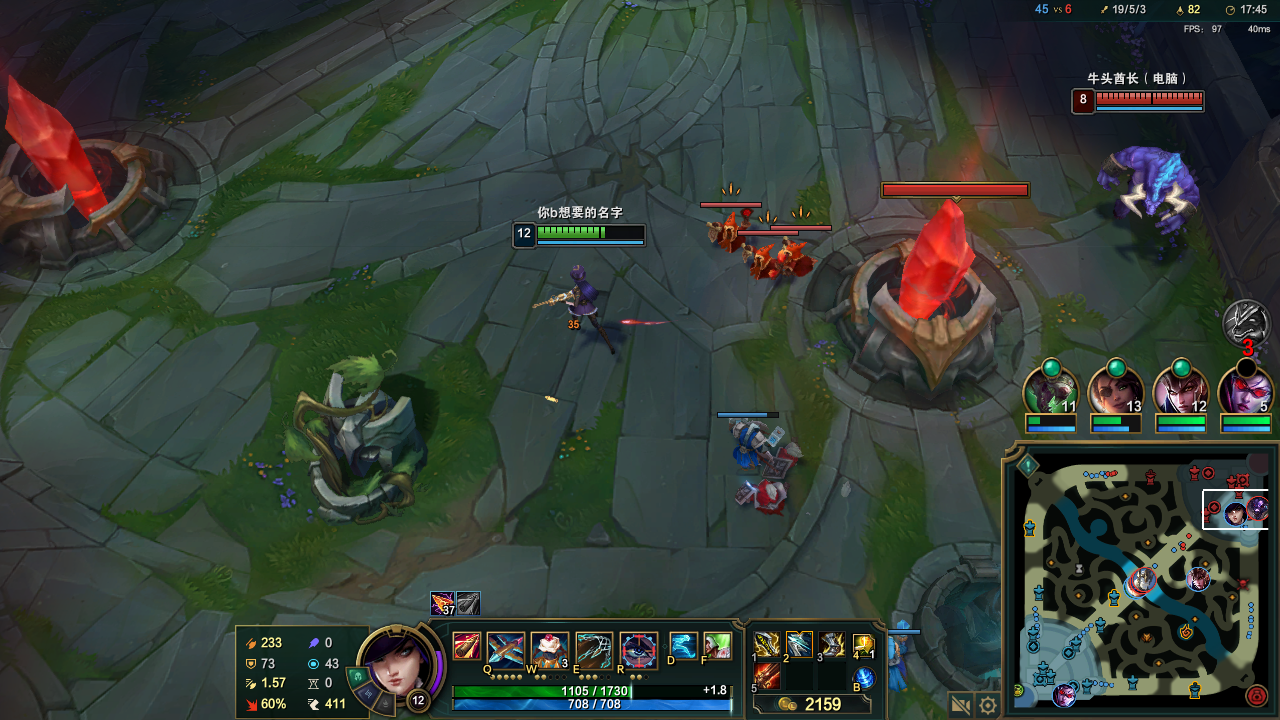DFSJ: (841, 184, 1017, 395)
DFXB: (749, 246, 782, 280), (783, 241, 815, 275), (710, 218, 743, 241)
DFYX: (1091, 90, 1202, 103)
WFXB: (731, 425, 766, 463), (890, 640, 907, 677)
